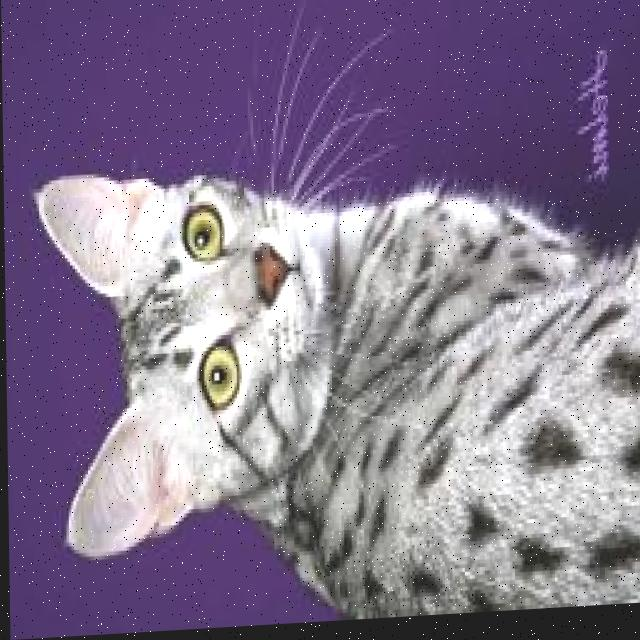Egyptian Mau: (29, 142, 640, 639)
